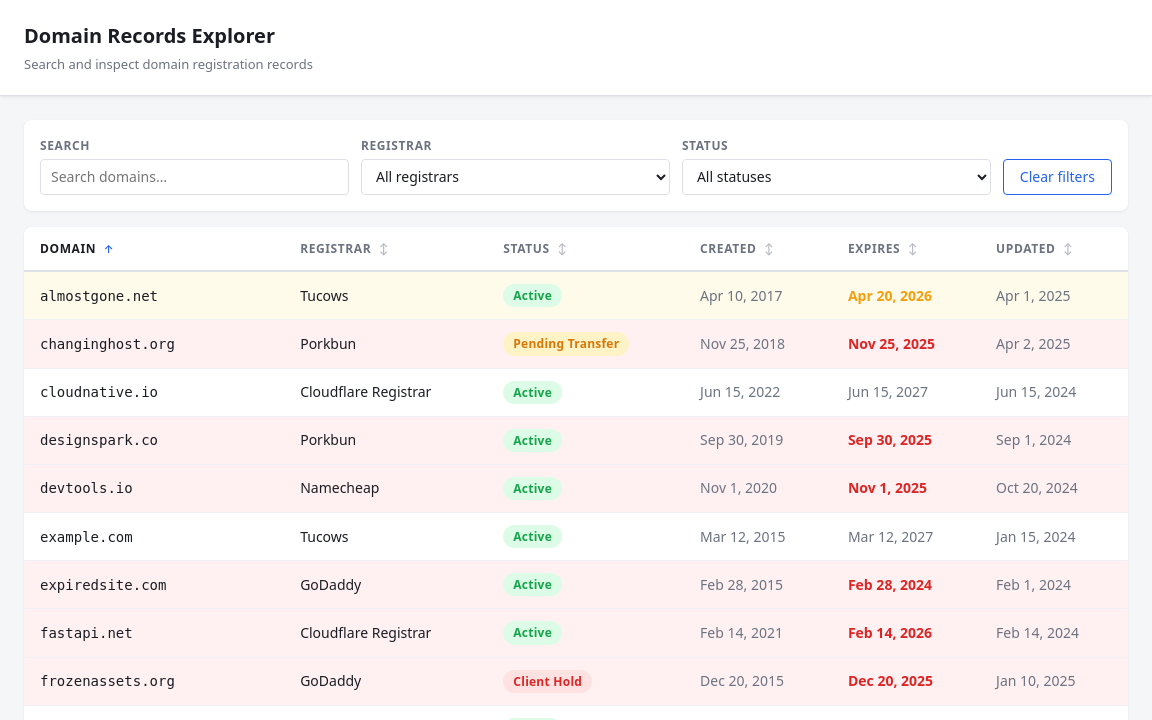
Test: Domain Records Explorer › search filter › shows the empty state when no domains match
Step 1. Type "zzznomatchxxx" into the search field with id "filter-search" → (195, 177), box [40,159,349,195]
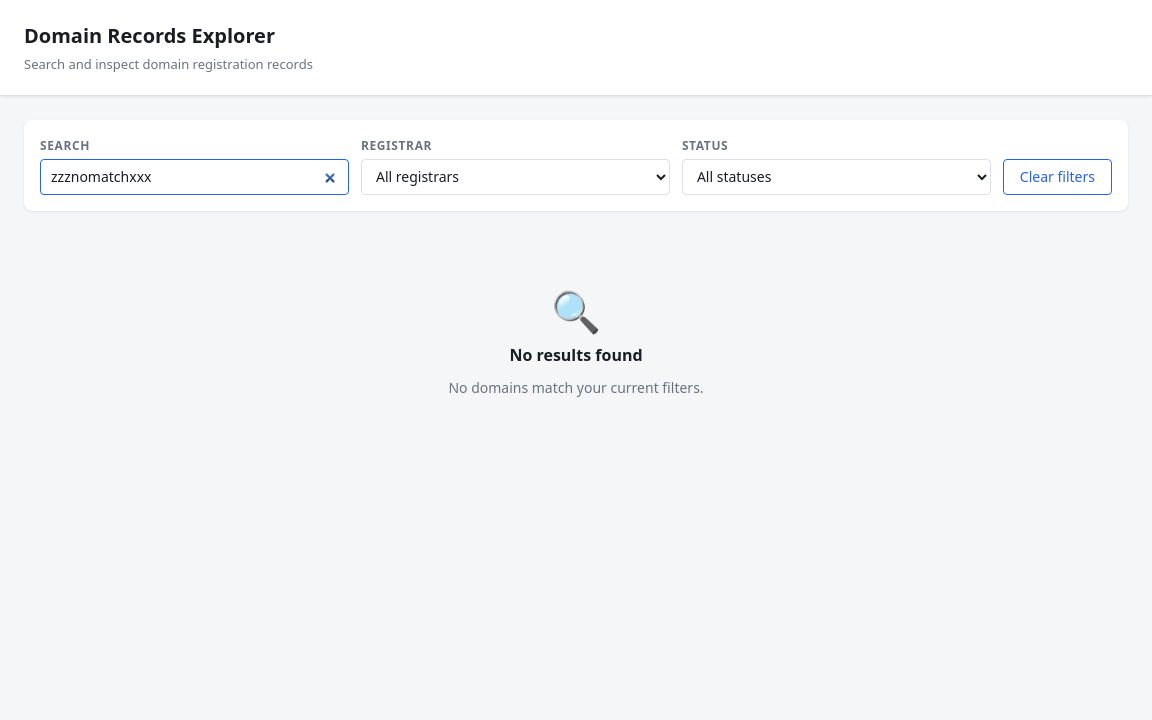
Result: the row "Domain ↑ Registrar ↕ Status ↕ Created ↕ Expires ↕ Updated ↕" is gone
Result: the heading "No results found" is shown at [509,343,642,369]
